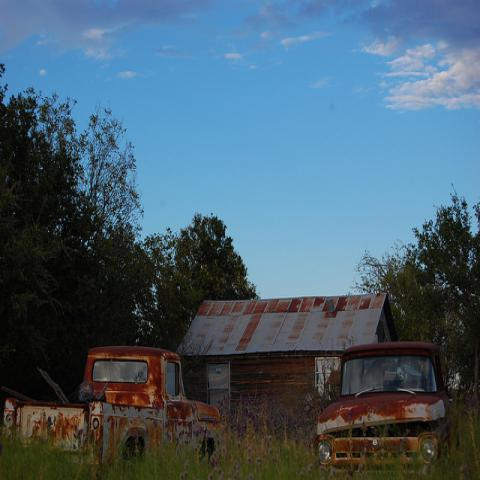truck: (0, 342, 228, 471), (314, 339, 454, 479)
